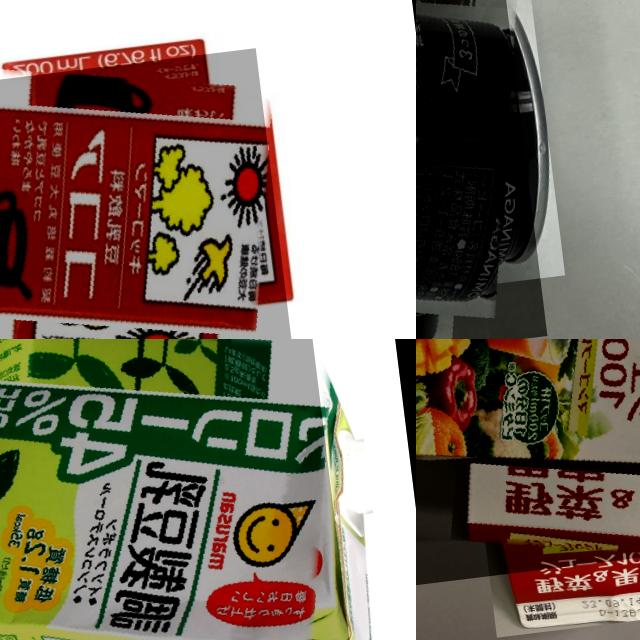Aluminium Foil: (0, 339, 364, 640), (0, 47, 292, 339), (416, 339, 640, 587)
Can: (416, 0, 547, 339)
